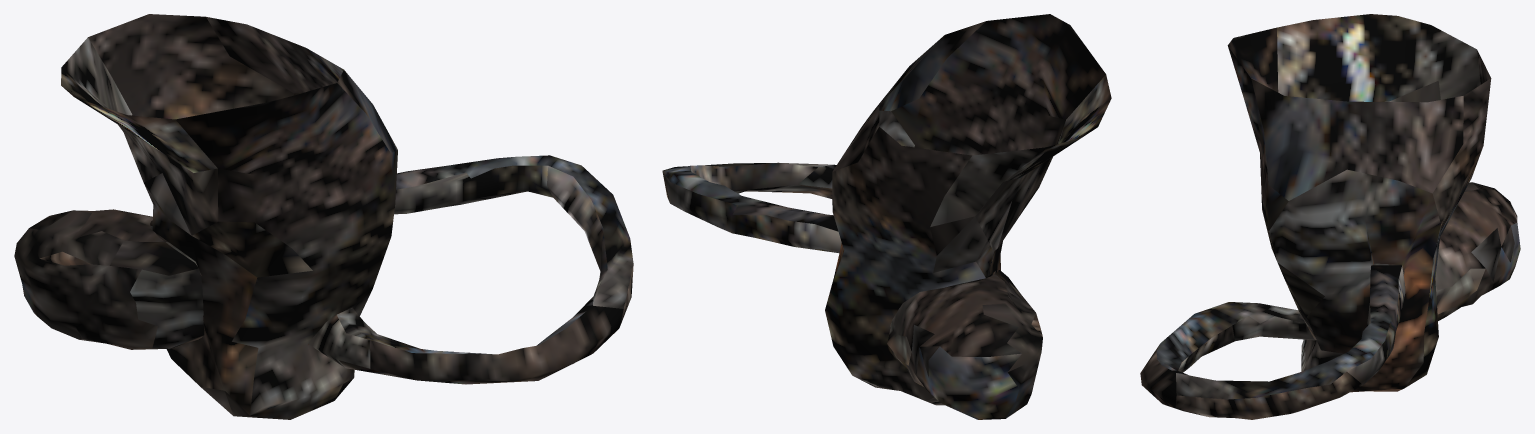
The model's file is CaveTest_lowPoly.fbx.
3 renders of one model, left to right at view 1: azimuth 30°, elevation 25°; view 2: azimuth 150°, elevation 25°; view 3: azimuth 270°, elevation 25°, orthographic. The views are drawn at different scales.
Parts seen in each view (by area): view 1: CaveBase.001, CaveBase.002, CaveBase.003; view 2: CaveBase.001, CaveBase.003, CaveBase.002; view 3: CaveBase.001, CaveBase.002, CaveBase.003.
Boxes of the visible parts, left/top/right/bottom form: CaveBase.001: left=61, top=14, right=397, bottom=419; CaveBase.002: left=308, top=155, right=633, bottom=384; CaveBase.003: left=14, top=209, right=204, bottom=349; CaveBase.001: left=825, top=14, right=1111, bottom=405; CaveBase.003: left=887, top=270, right=1042, bottom=419; CaveBase.002: left=662, top=162, right=841, bottom=252; CaveBase.001: left=1227, top=14, right=1491, bottom=392; CaveBase.002: left=1140, top=265, right=1405, bottom=419; CaveBase.003: left=1373, top=182, right=1520, bottom=320.
Size of the model in its own units: 17433 by 12500 by 13411.
